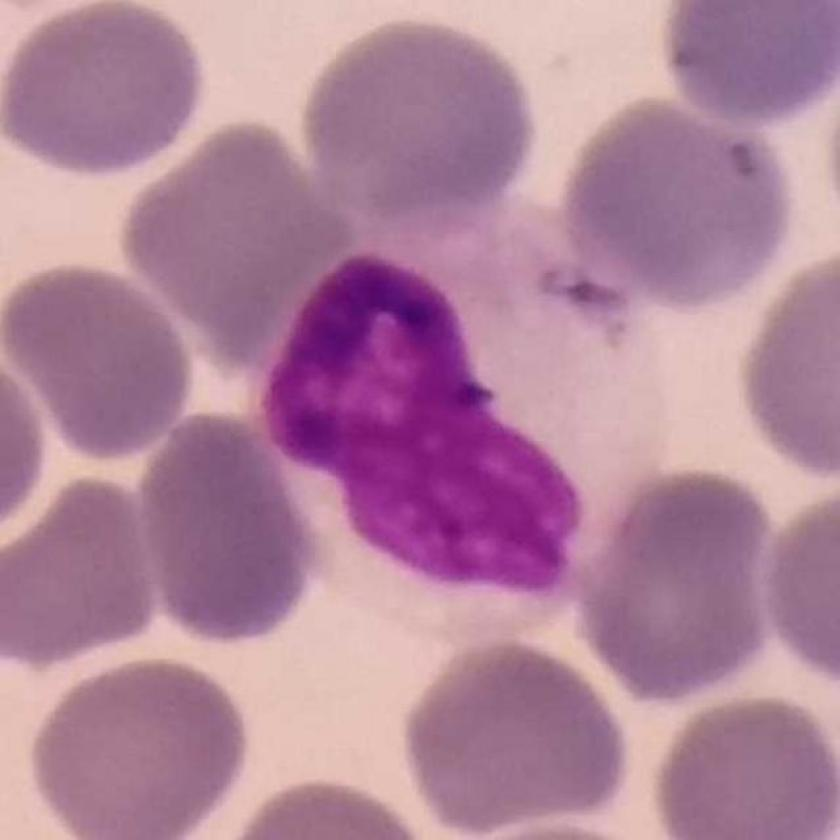monocyte: (245, 212, 685, 655)
